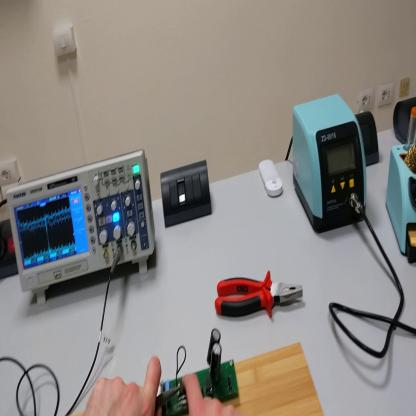hand: (86, 357, 163, 416), (183, 376, 237, 413)
high voltage board: (156, 332, 242, 415)
oscilloscope: (8, 147, 155, 308)
oscilloscope probe tip: (156, 388, 182, 413)
pliers: (214, 268, 307, 318)
socket: (355, 106, 383, 166), (396, 90, 416, 143), (2, 223, 19, 284)
welder base: (386, 102, 416, 267)
welder station: (291, 88, 370, 239)
working area: (237, 342, 325, 416)
